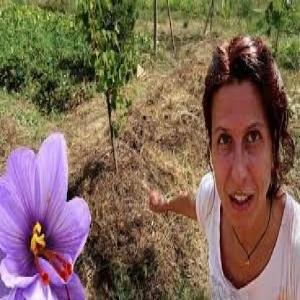Saffron: (0, 133, 90, 286)
